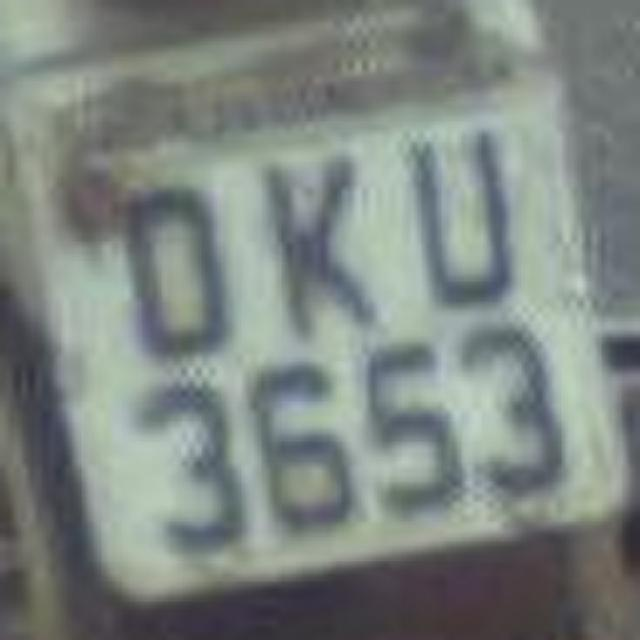3: (432, 292, 600, 508), (116, 360, 272, 575)
5: (344, 332, 471, 520)
6: (228, 332, 364, 556)
O: (100, 164, 232, 371)
U: (388, 100, 528, 320)
X: (240, 140, 388, 348)
